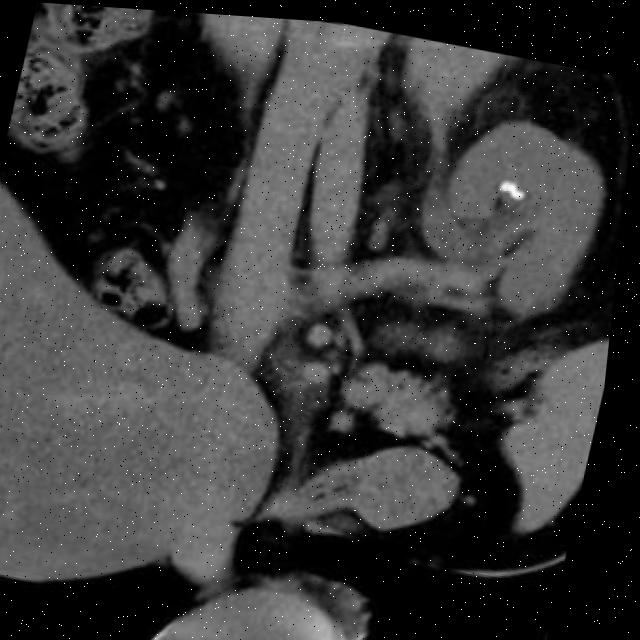Tas_Var: (514, 180, 528, 194), (507, 176, 519, 187), (500, 171, 512, 181), (499, 178, 509, 187)
